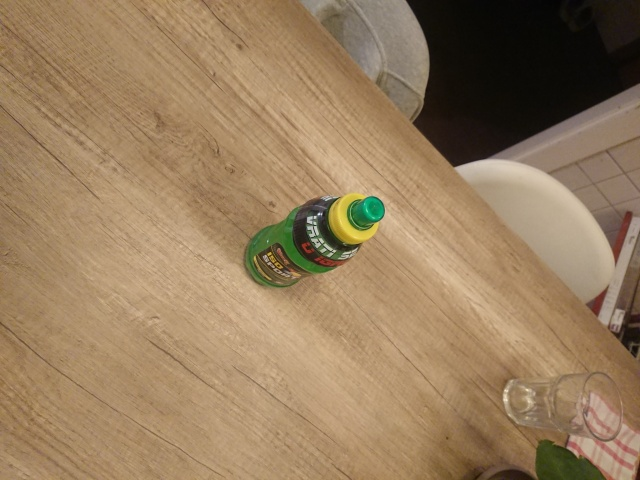Vindi Iso Sport Lemon-Grapefruit 500mL: (241, 190, 387, 291)
